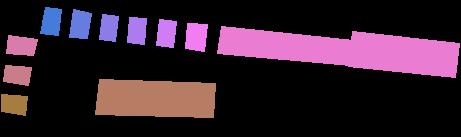parkingspot: (217, 26, 353, 65), (348, 31, 459, 77), (95, 79, 215, 117), (69, 9, 91, 38), (6, 35, 37, 55), (185, 23, 207, 51), (40, 7, 61, 35), (3, 65, 31, 85), (156, 19, 176, 47), (1, 94, 27, 115), (99, 14, 118, 41), (127, 17, 146, 44)
